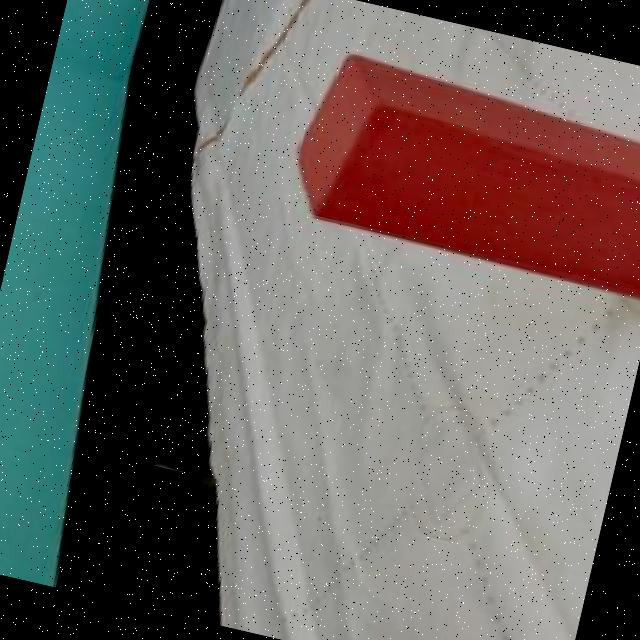redbox: (273, 44, 640, 305)
